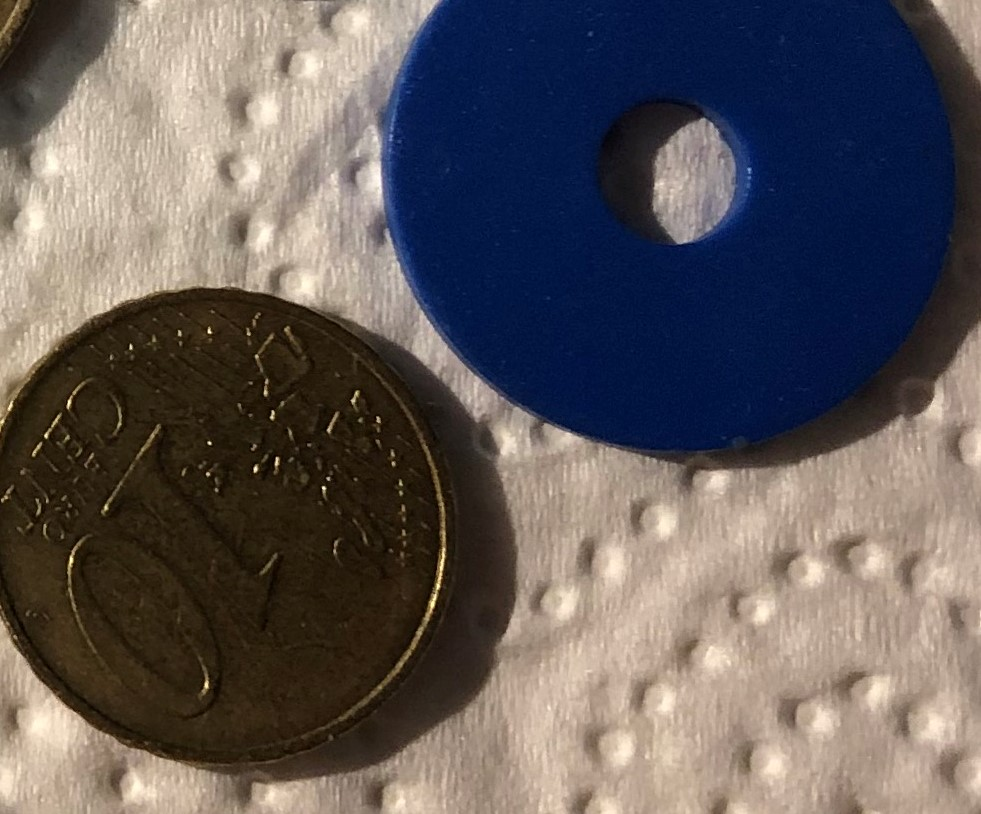10 cent: (0, 288, 459, 777)
